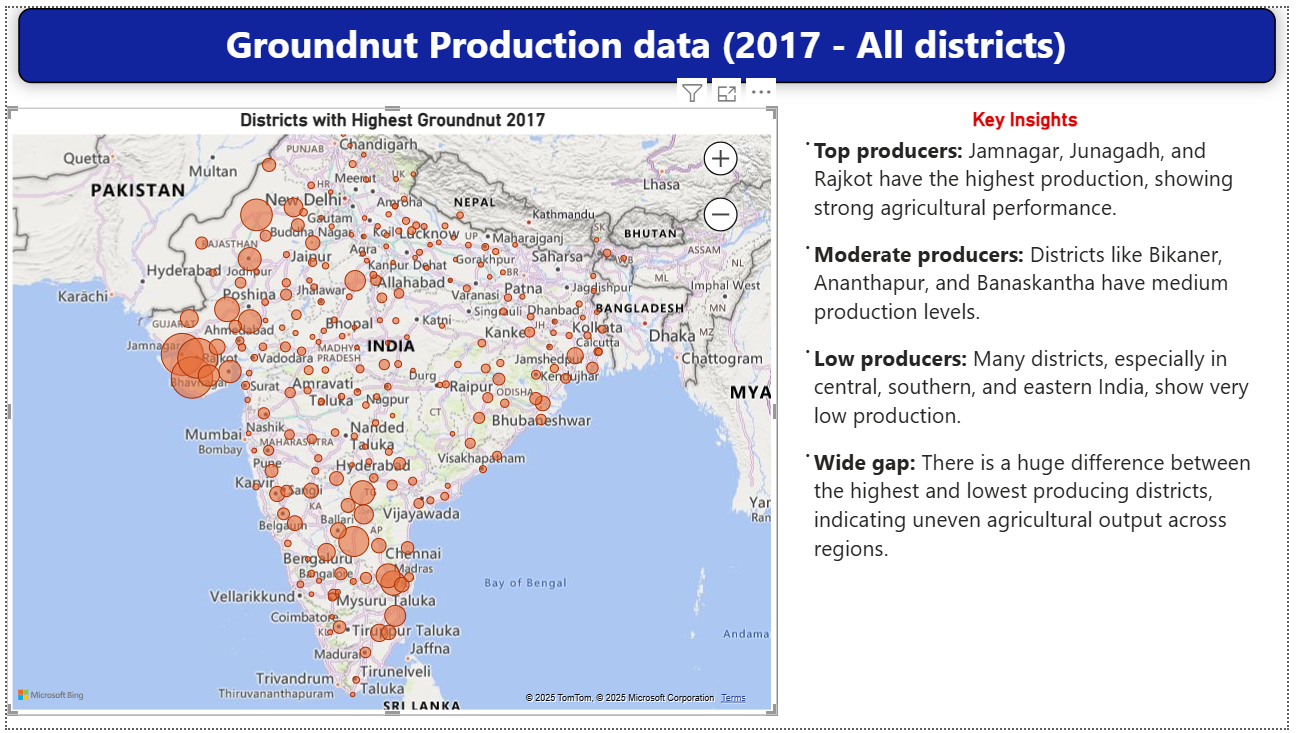

The dashboard page shown, as its layout file describes it:
{"tool":"powerbi","page":{"name":"Dashboard-5","canvas":[1280,720],"ordinal":4},"visuals":[{"type":"map","title":"Districts with Highest Groundnut 2017","fields":{"Size":["select","Sum(District Groundnut Production in 2020.total_groundnut_production)"],"Category":["District Groundnut Production in 2020.DIST_NAME"]},"box":[0,100,770,607.5],"z":0},{"type":"textbox","title":"Key Insights","box":[783.8,100,468.8,553.8],"z":1000},{"type":"textbox","box":[11.2,0,1257.5,75],"z":2000}]}

Visuals, with their boxes in screenshot pixels (x1, y1, x2, y2), scaled from the page's 1280x720 canvas onto the 1296x733 screenshot:
"Districts with Highest Groundnut 2017" map: x1=0 y1=102 x2=780 y2=720
"Key Insights" textbox: x1=794 y1=102 x2=1268 y2=666
textbox: x1=11 y1=0 x2=1285 y2=76
